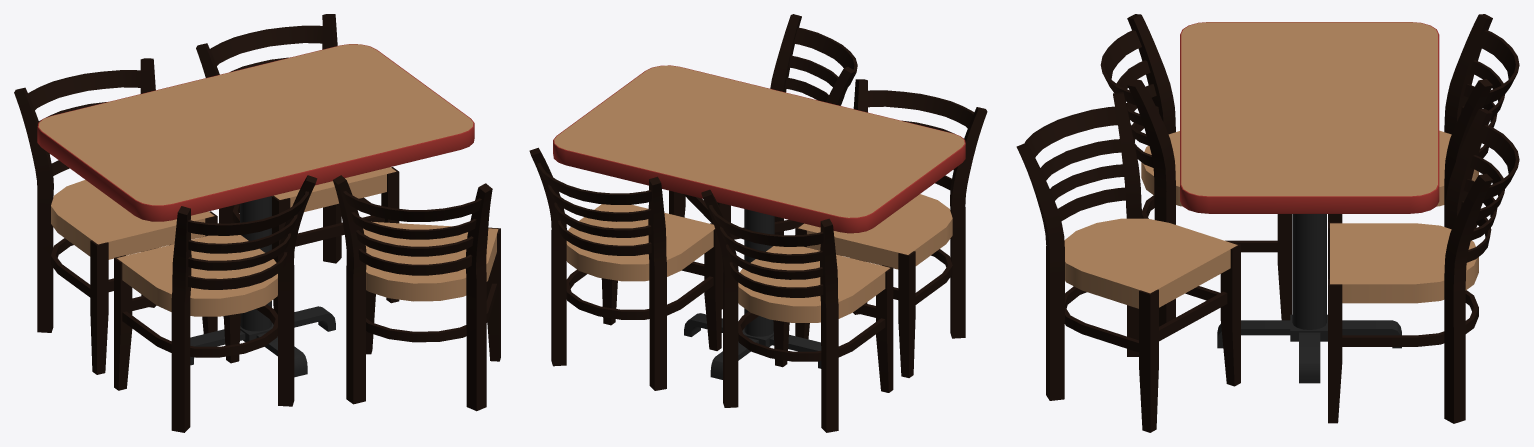
Rendered from restaurant_table_and_chairs.glb.
3 views of the same model, side by side, from view 1: azimuth 30°, elevation 25°; view 2: azimuth 150°, elevation 25°; view 3: azimuth 270°, elevation 25° (orthographic). The views are drawn at different scales.
Visible parts, largest first — view 1: Table - 4 person_1, ladder back chair.003_3, ladder back chair.004_4, ladder back chair.002_2, ladder back chair.001_0; view 2: Table - 4 person_1, ladder back chair.002_2, ladder back chair.001_0, ladder back chair.003_3, ladder back chair.004_4; view 3: Table - 4 person_1, ladder back chair.004_4, ladder back chair.001_0, ladder back chair.003_3, ladder back chair.002_2.
Part boxes in pixels (x1,y1,x2,y2): Table - 4 person_1: (37,44,474,377); ladder back chair.003_3: (114,175,317,432); ladder back chair.004_4: (333,175,500,411); ladder back chair.002_2: (14,58,217,374); ladder back chair.001_0: (196,14,399,314); Table - 4 person_1: (553,65,965,379); ladder back chair.002_2: (701,189,893,432); ladder back chair.001_0: (529,147,721,390); ladder back chair.003_3: (795,79,987,377); ladder back chair.004_4: (669,14,857,309); Table - 4 person_1: (1180,22,1439,383); ladder back chair.004_4: (1016,92,1240,432); ladder back chair.001_0: (1328,109,1519,423); ladder back chair.003_3: (1100,14,1291,326); ladder back chair.002_2: (1328,14,1519,228).
Bounding box in the file's own units: 1.23 × 0.8105 × 1.48.
